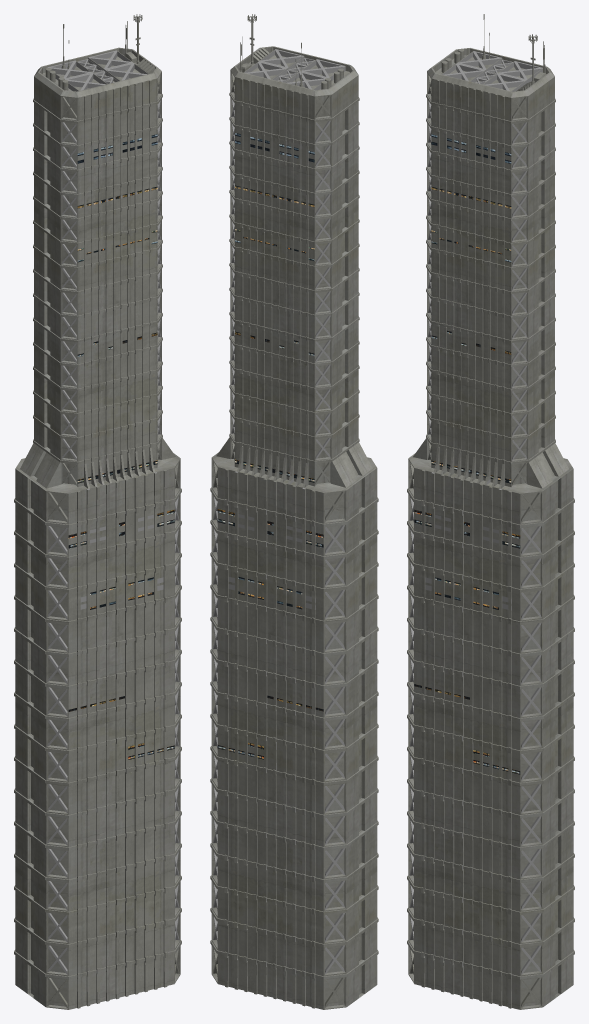
Rendered from lz-tower-4.glb.
3 views of the same model, side by side, from view 1: azimuth 30°, elevation 25°; view 2: azimuth 150°, elevation 25°; view 3: azimuth 330°, elevation 25° (orthographic).
Visible parts, largest first — view 1: 4; view 2: 4; view 3: 4.
Part boxes in pixels (left/top/right/bottom): 4: left=14, top=14, right=181, bottom=1009; 4: left=210, top=14, right=378, bottom=1009; 4: left=407, top=14, right=574, bottom=1009.
Size of the model in its own units: 107 by 709 by 67.65.
Materials: 3 (2 with a texture image).
